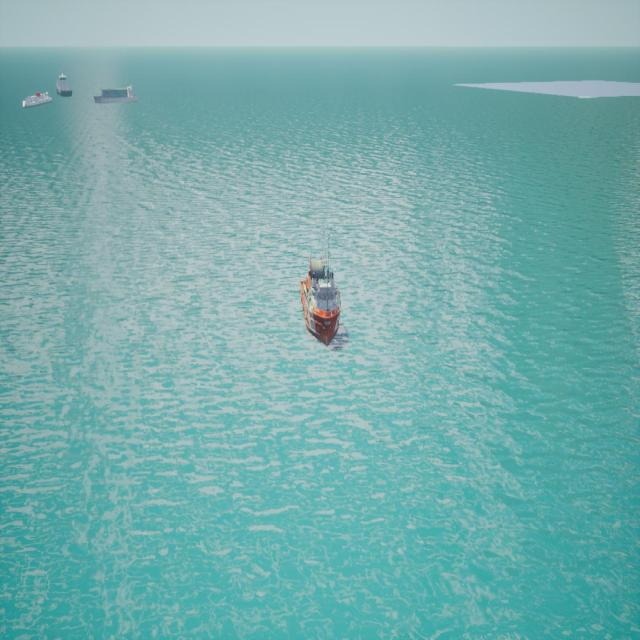tug boat: (303, 256, 342, 348)
